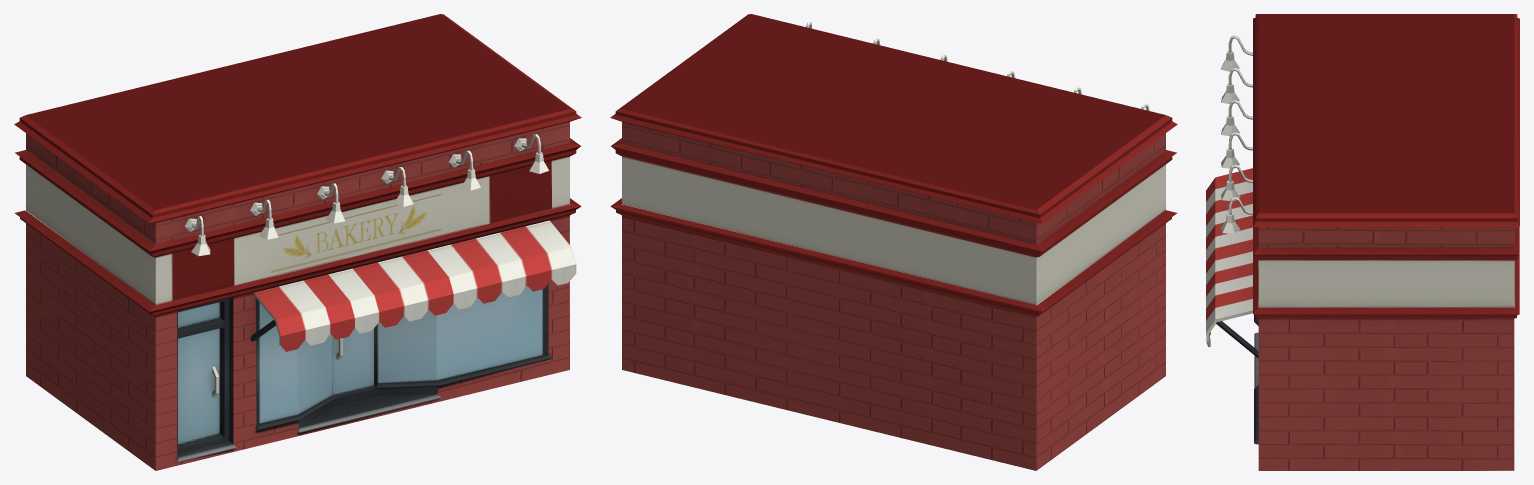
Rendered from Bakery.obj.
3 views of the same model, side by side, from view 1: azimuth 30°, elevation 25°; view 2: azimuth 150°, elevation 25°; view 3: azimuth 270°, elevation 25° (orthographic).
Parts seen in each view (by area): view 1: Bakery_mesh; view 2: Bakery_mesh; view 3: Bakery_mesh.
Part boxes in pixels (bbox=[...]): Bakery_mesh: bbox=[14, 14, 581, 470]; Bakery_mesh: bbox=[610, 14, 1177, 470]; Bakery_mesh: bbox=[1206, 14, 1519, 470].
Size of the model in its own units: 19.26 by 11.1 by 12.26.
1 material, 1 textured.
